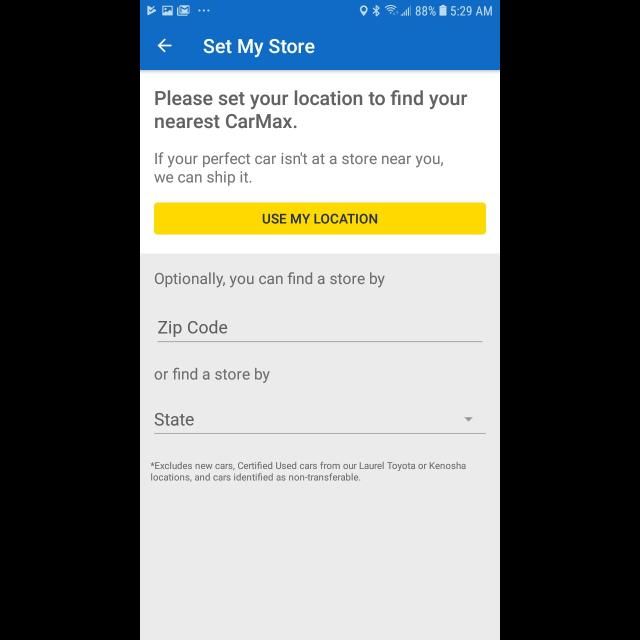icon: (156, 38, 172, 54), (464, 418, 474, 422)
input: (154, 413, 486, 435), (158, 320, 482, 342)
text: (155, 90, 467, 130), (154, 152, 443, 186), (150, 462, 466, 482), (155, 272, 385, 288), (203, 40, 314, 59), (154, 368, 270, 384), (158, 320, 228, 338), (154, 413, 194, 427)
textbutton: (154, 202, 486, 234)
uppertaskbar: (140, 1, 500, 18)
